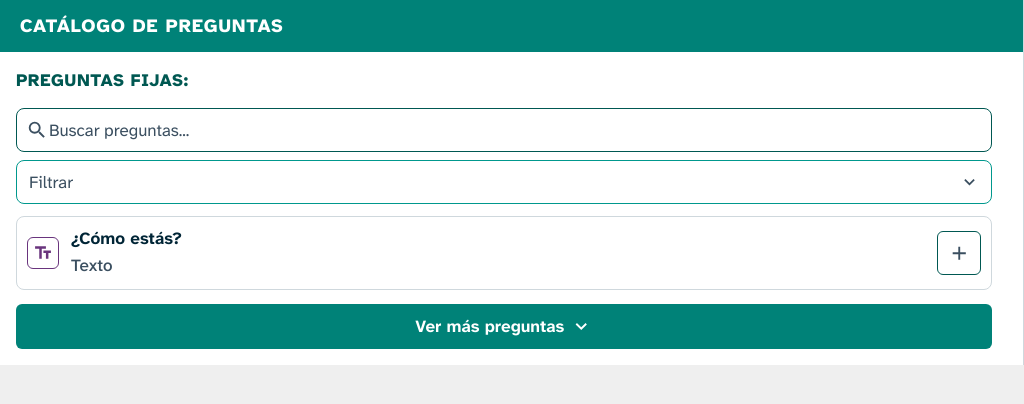
CatalogSidebar › carga páginas adicionales de preguntas
Expected: the heading "¿Cómo estás?" is shown, [71,227,182,249]
Click the button "Ver más preguntas": (504, 326) [16,304,992,349]
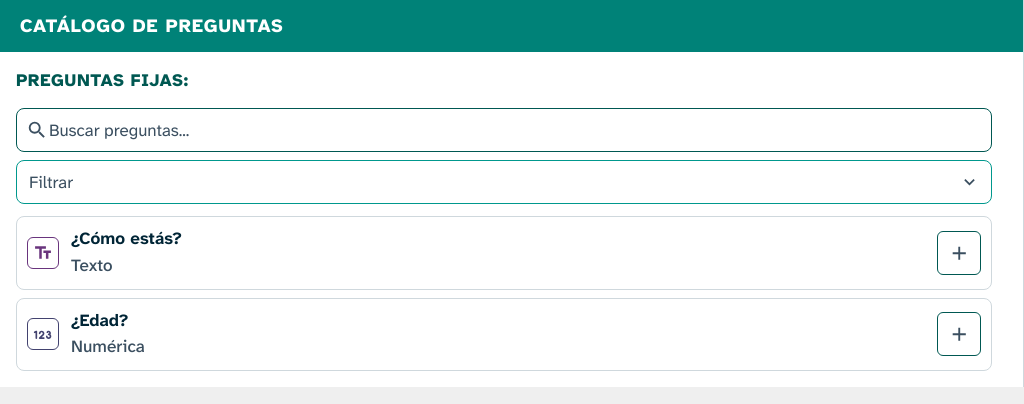
Now the heading "¿Edad?" is shown, box [71,309,128,331]
